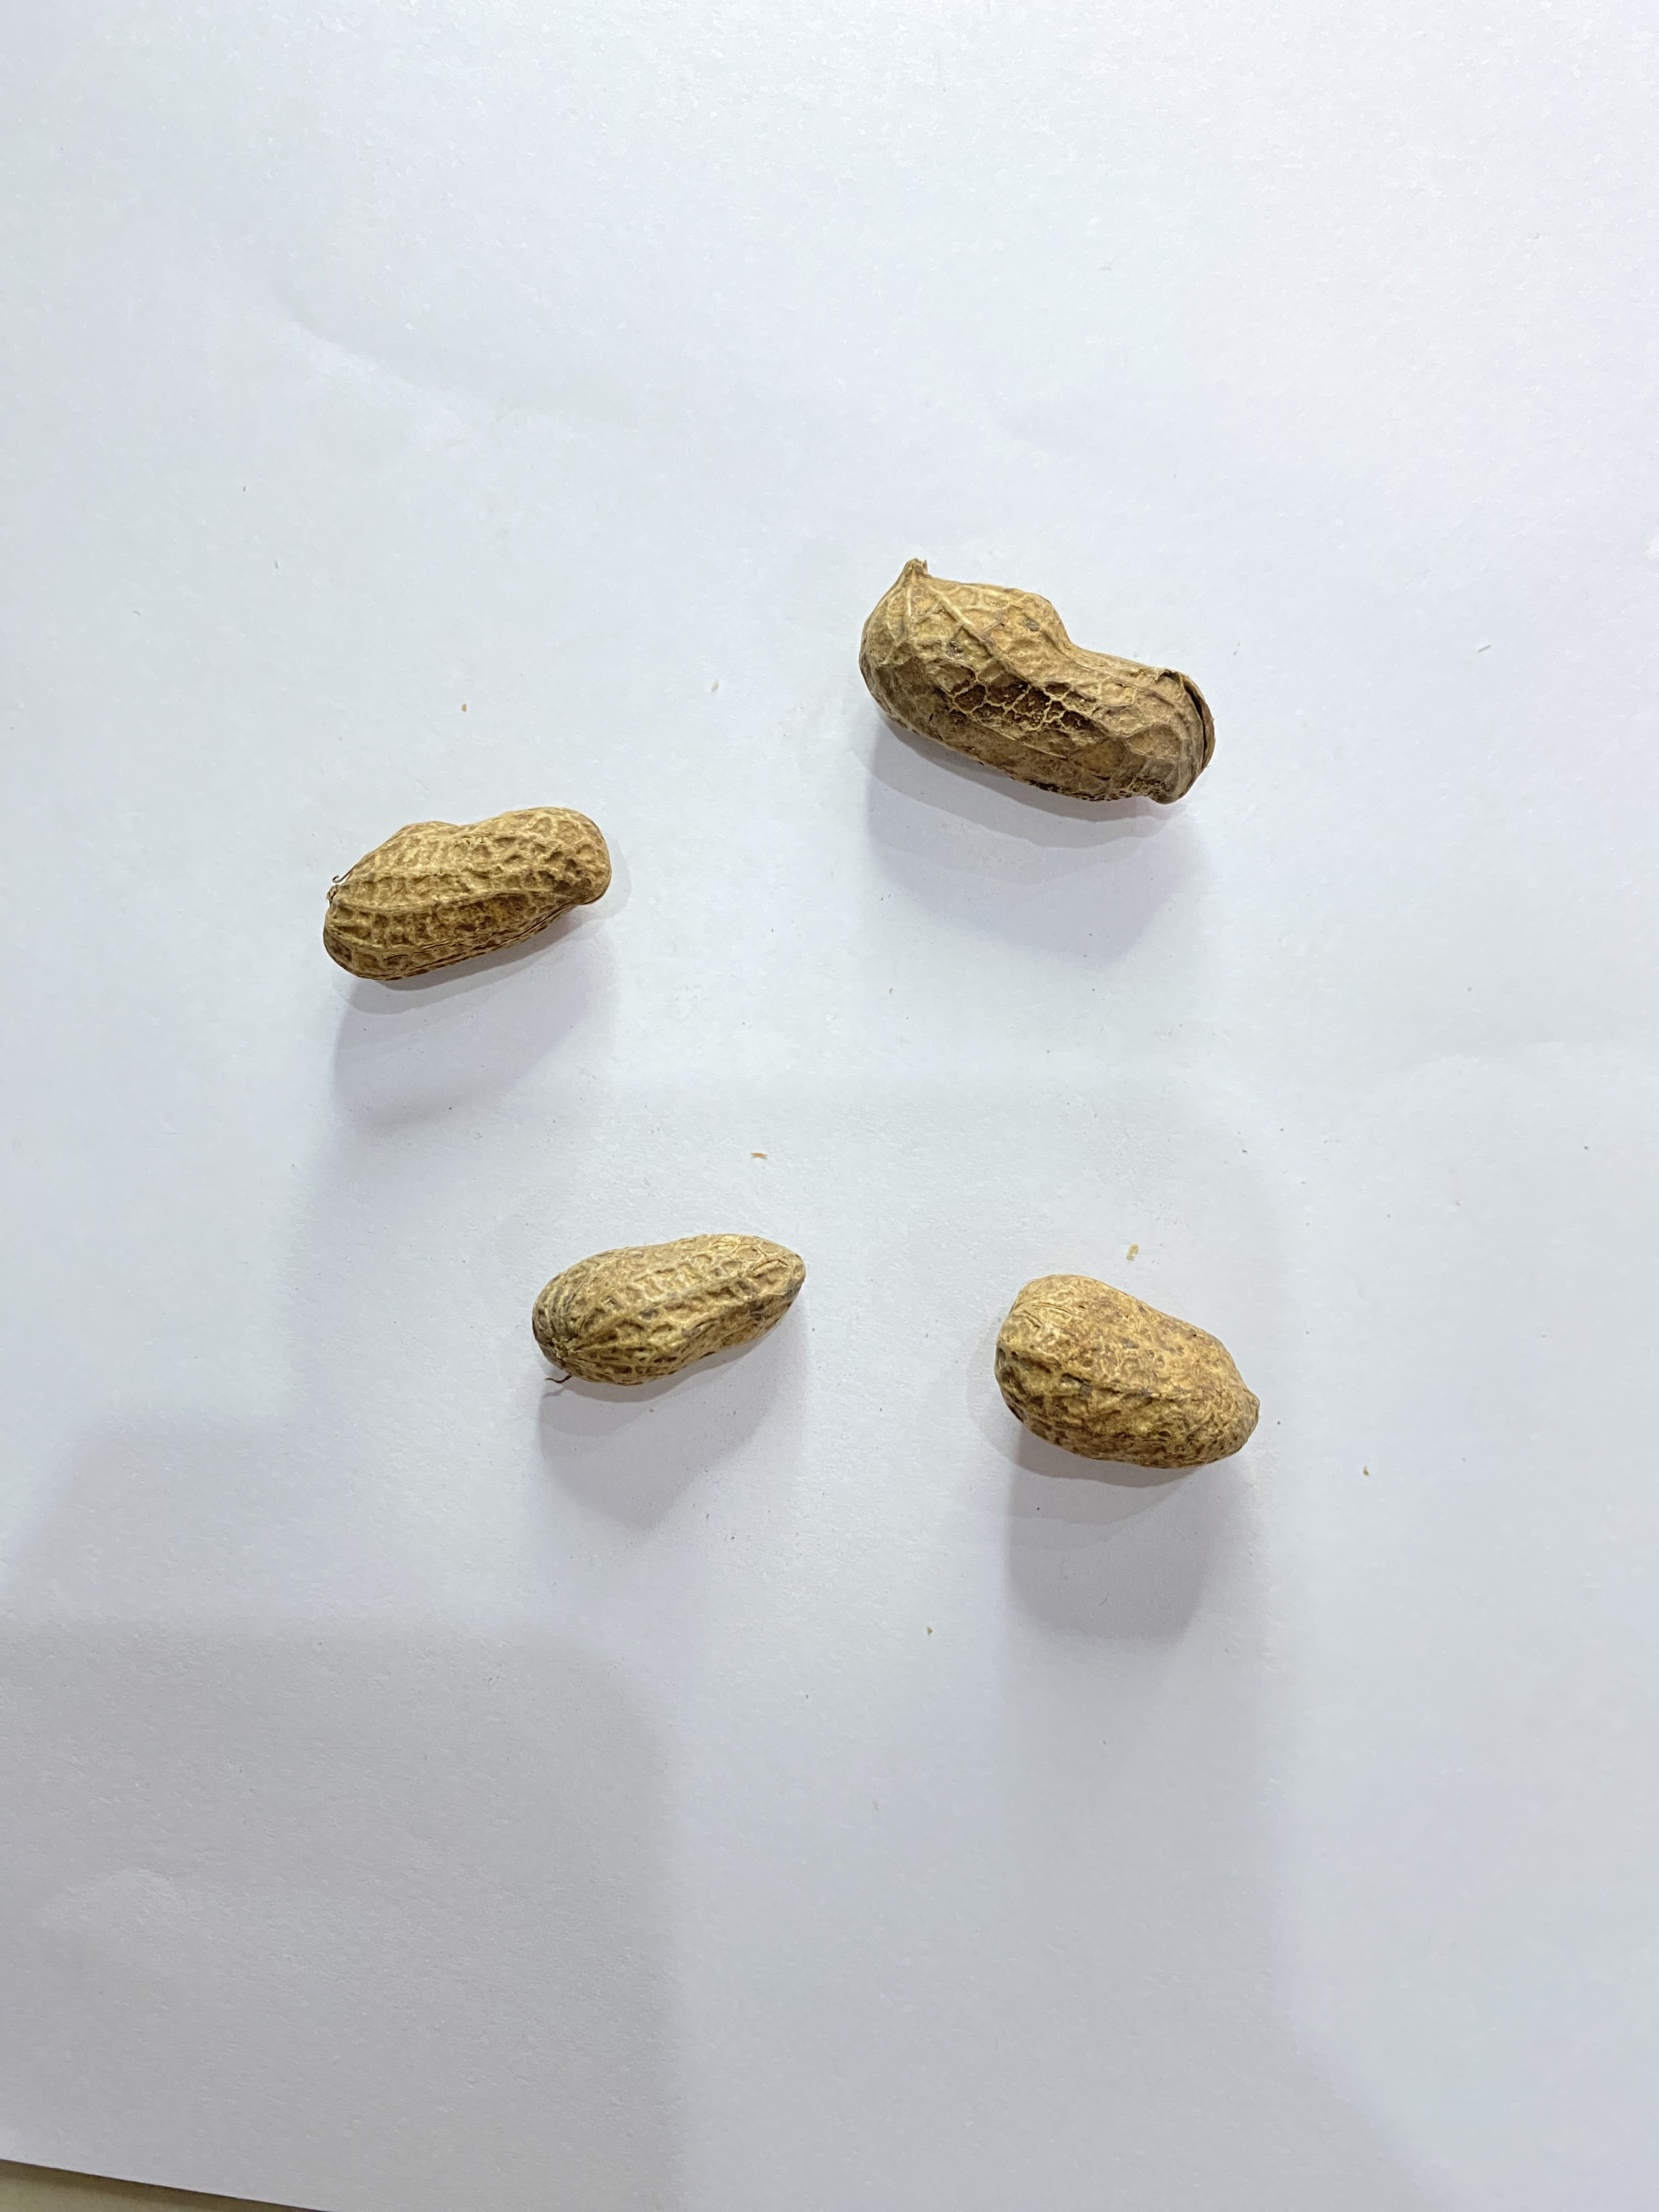kacang1: (995, 1270, 1288, 1493), (328, 784, 608, 989), (523, 1223, 814, 1418)
kacang2: (863, 533, 1222, 834)
